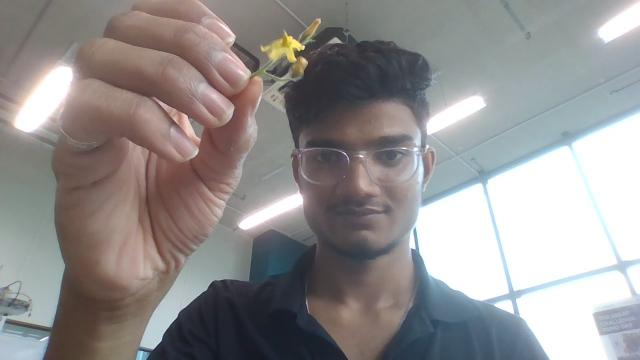Anthesis: (259, 30, 305, 65), (299, 17, 321, 43), (291, 55, 308, 79)
